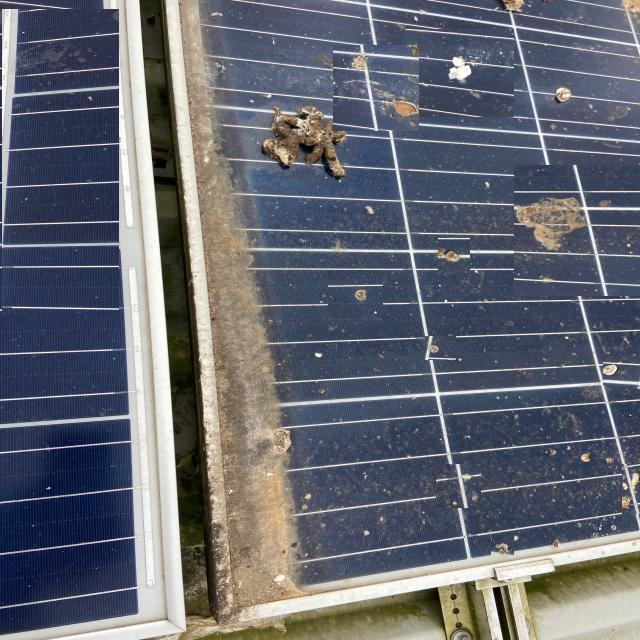Bird-drop: (3, 9, 119, 315), (250, 57, 409, 215), (514, 165, 640, 296), (405, 29, 514, 117), (333, 45, 419, 131), (328, 270, 383, 320), (540, 72, 595, 114), (436, 465, 481, 509), (603, 354, 640, 386), (438, 237, 470, 271), (622, 464, 640, 514), (425, 336, 456, 360), (572, 444, 596, 468), (491, 535, 514, 558)
